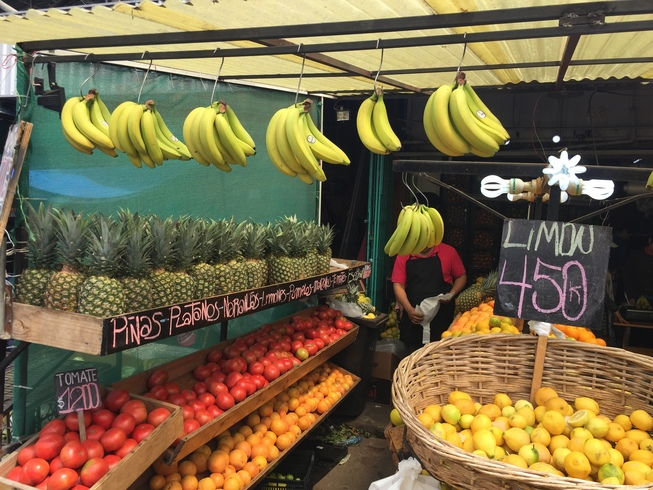precio: (495, 210, 619, 332), (50, 361, 111, 418)
